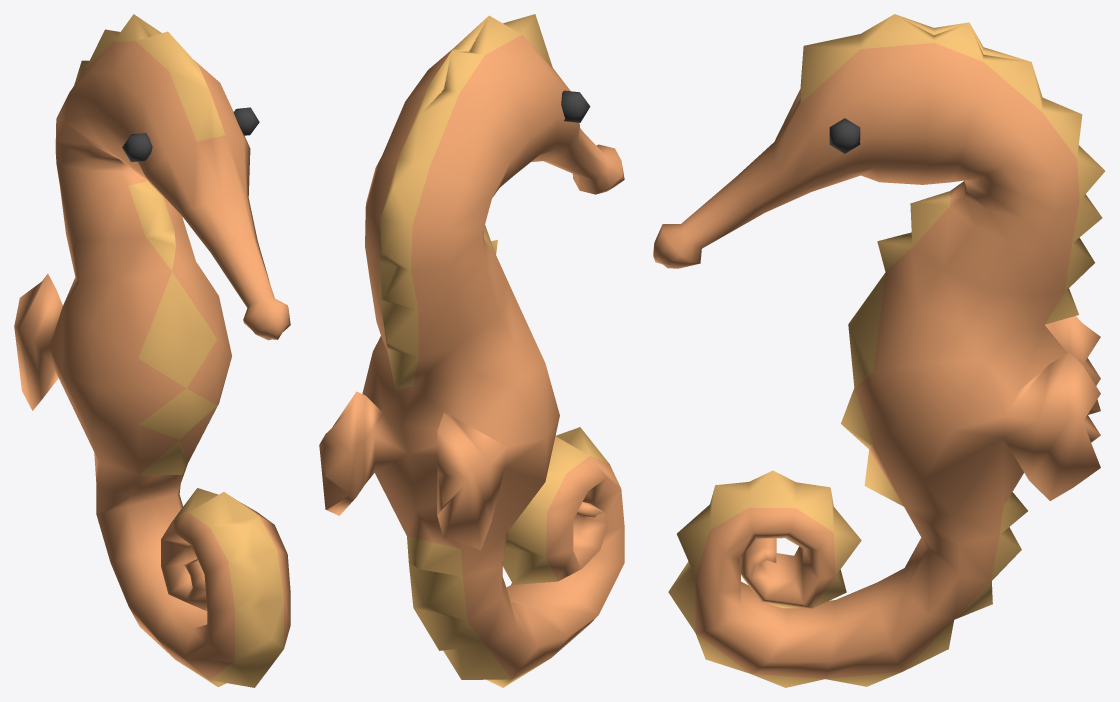
Rendered from seahorse_from_poly_by_google.glb.
3 renders of one model, left to right at view 1: azimuth 30°, elevation 25°; view 2: azimuth 150°, elevation 25°; view 3: azimuth 270°, elevation 25°, orthographic. The views are drawn at different scales.
Parts seen in each view (by area): view 1: Object_5, Object_4, Object_6; view 2: Object_5, Object_4, Object_6; view 3: Object_5, Object_4, Object_6.
Boxes of the visible parts, x1,y1,x2,y2 form: Object_5: (14, 41, 290, 679); Object_4: (74, 14, 283, 687); Object_6: (122, 107, 259, 161); Object_5: (319, 34, 624, 678); Object_4: (379, 14, 609, 687); Object_6: (561, 90, 590, 122); Object_5: (653, 43, 1100, 678); Object_4: (668, 14, 1104, 687); Object_6: (829, 118, 860, 153).
Bounding box in the file's own units: 132 × 494 × 300.
